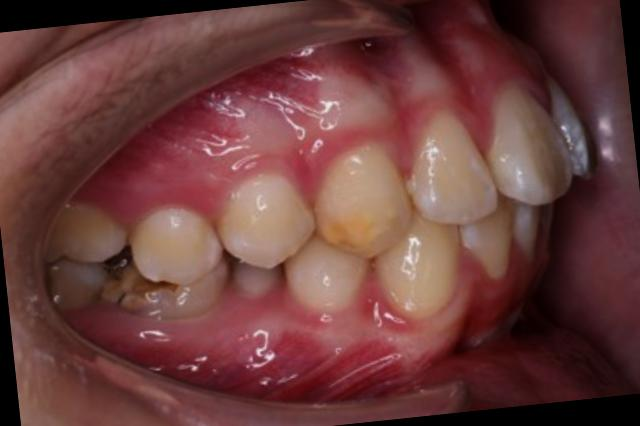canine class I: (268, 132, 470, 338)
molar class III full class: (34, 182, 230, 333)
